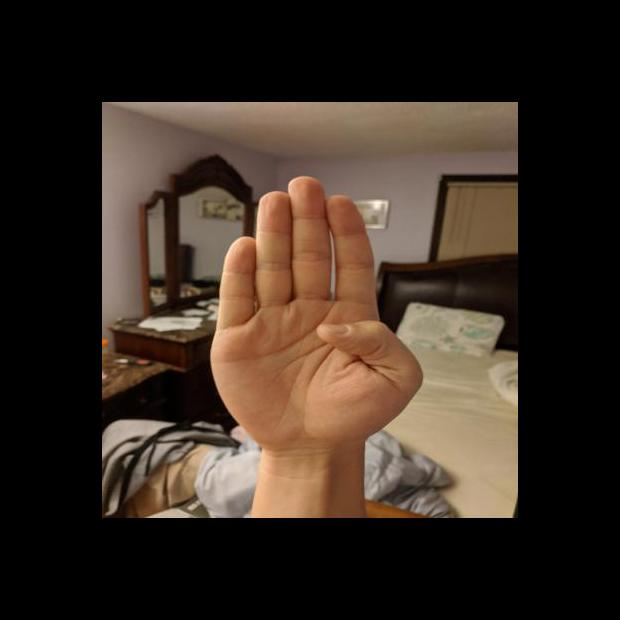A: (202, 171, 430, 455)
